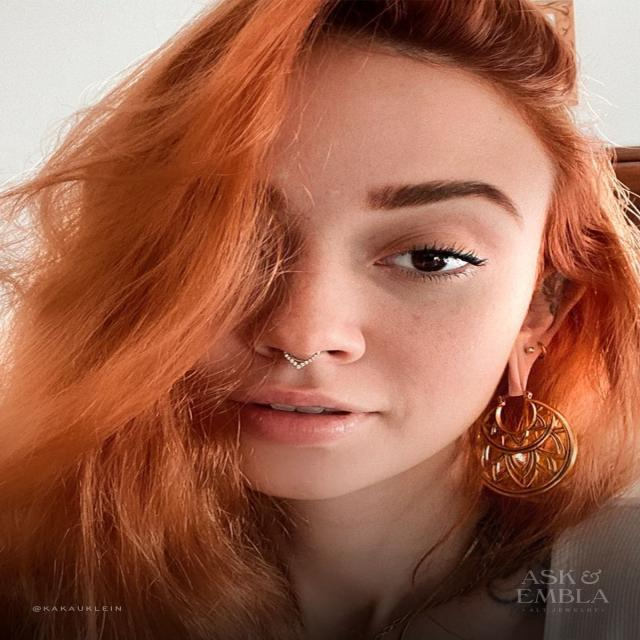Earring: (468, 352, 596, 520)
